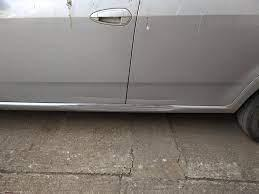RunningBoard-Dent: (42, 102, 184, 117)
doorouter-dent: (128, 0, 258, 104), (1, 0, 129, 104)
